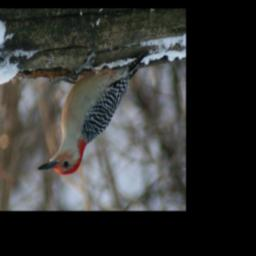Woodpecker: (35, 52, 148, 175)
